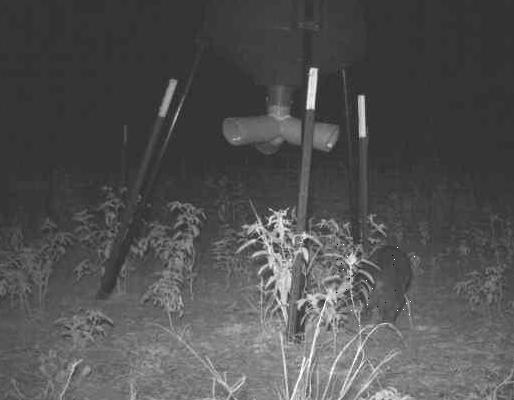Raccoon: (334, 245, 415, 327)
